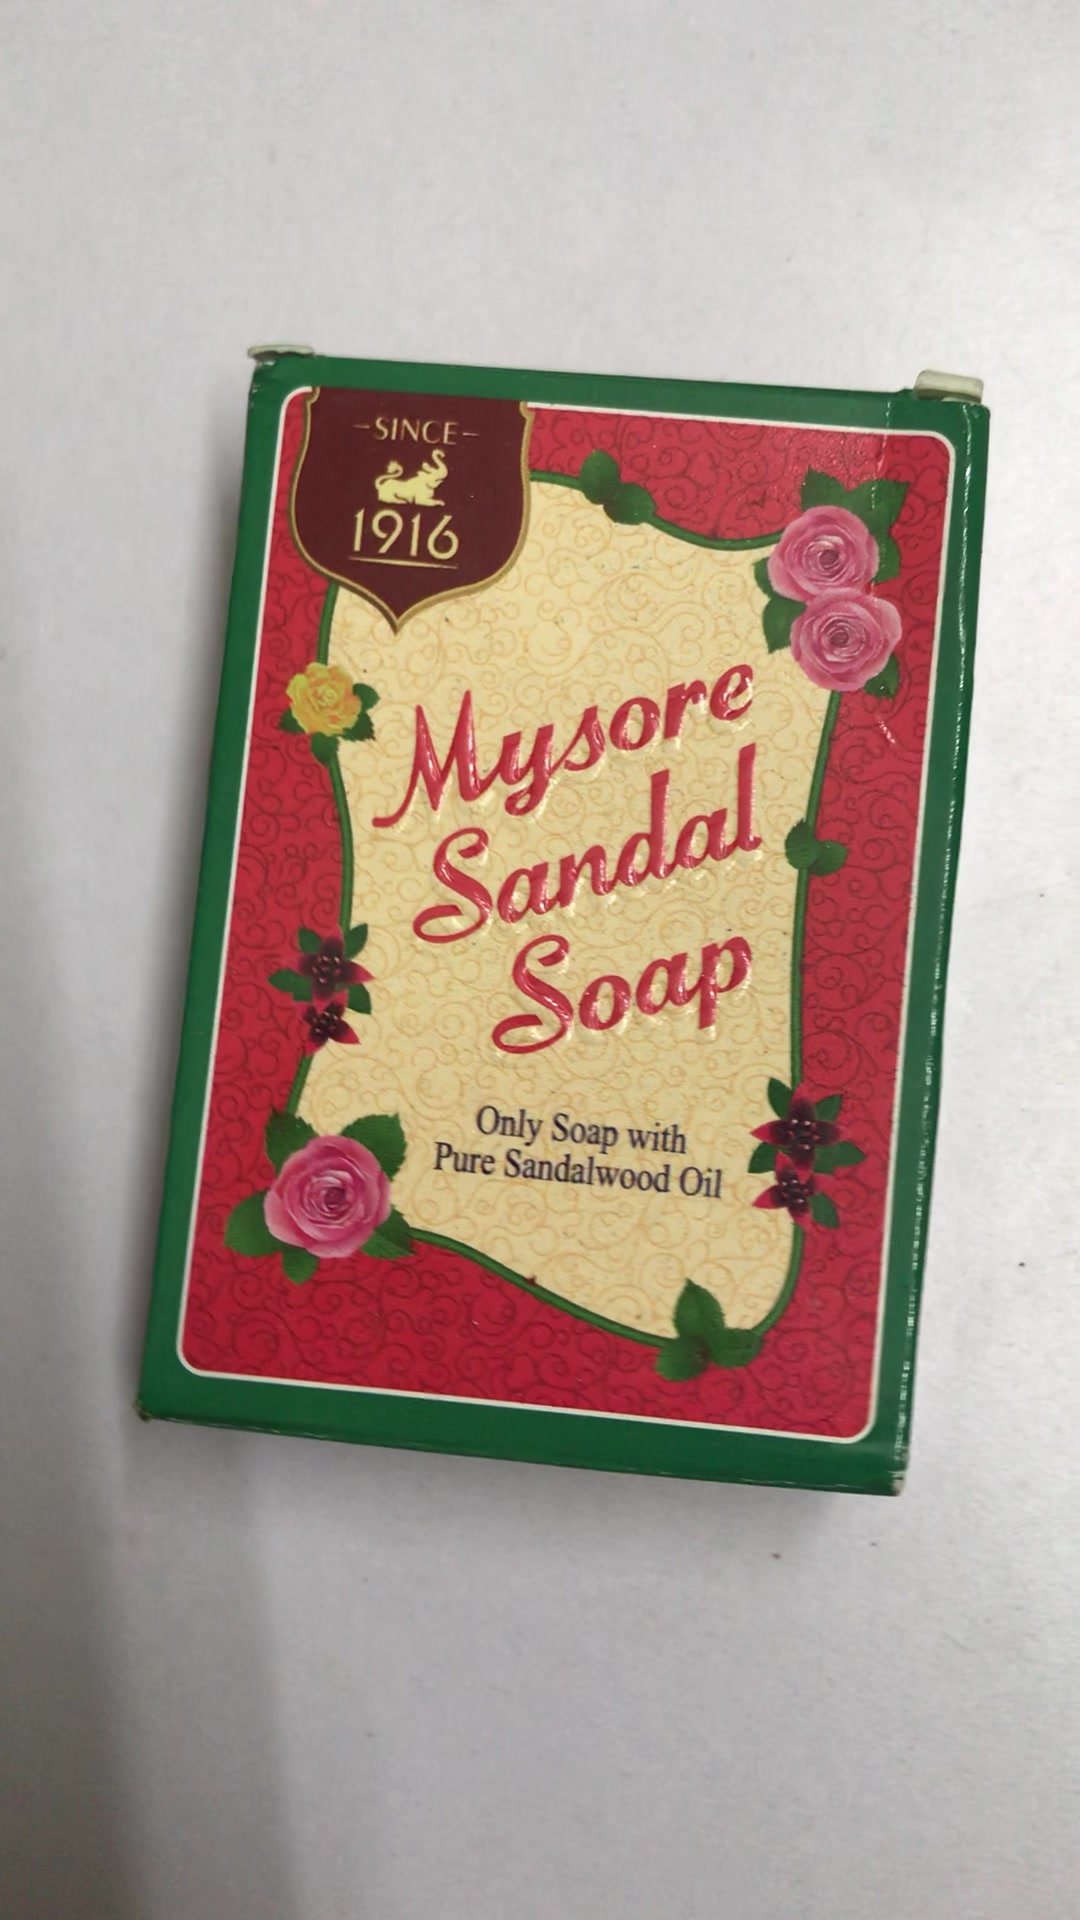mysore sandal soap: (131, 352, 1000, 1495)
